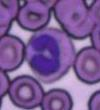N: (26, 28, 76, 82)
